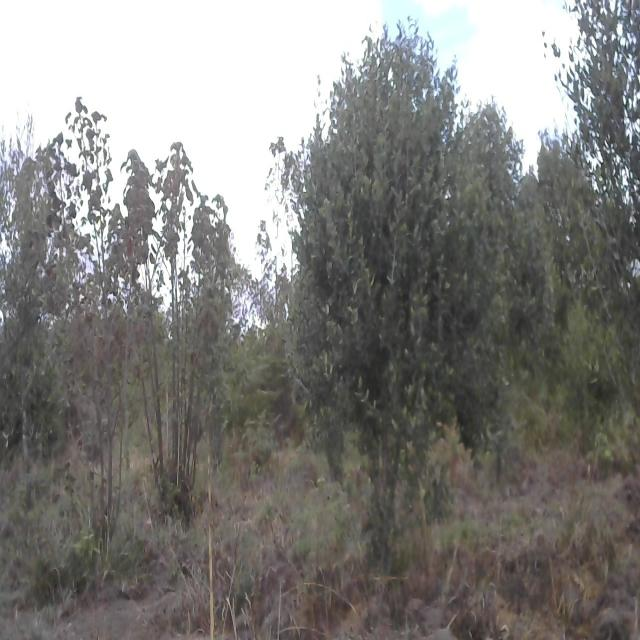Croton machrostychus: (39, 102, 143, 548), (126, 127, 236, 502)
Olea europea -africana-: (282, 7, 510, 567), (550, 0, 640, 320)
